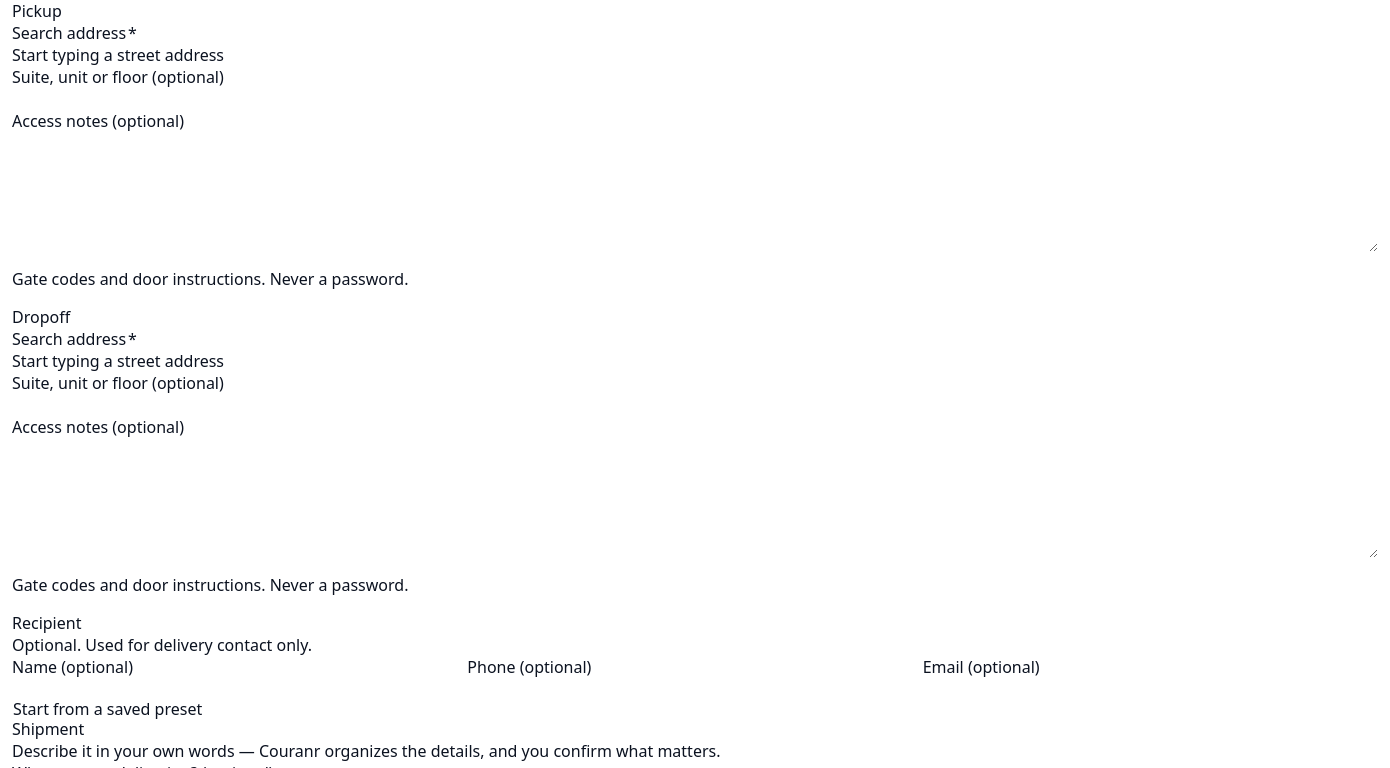
preset application in New Delivery › resolves the chosen preset server-side before filling anything
Click the button with test id "preset-start-open" at (108, 709), box [12, 700, 203, 718]
(page scrolled)
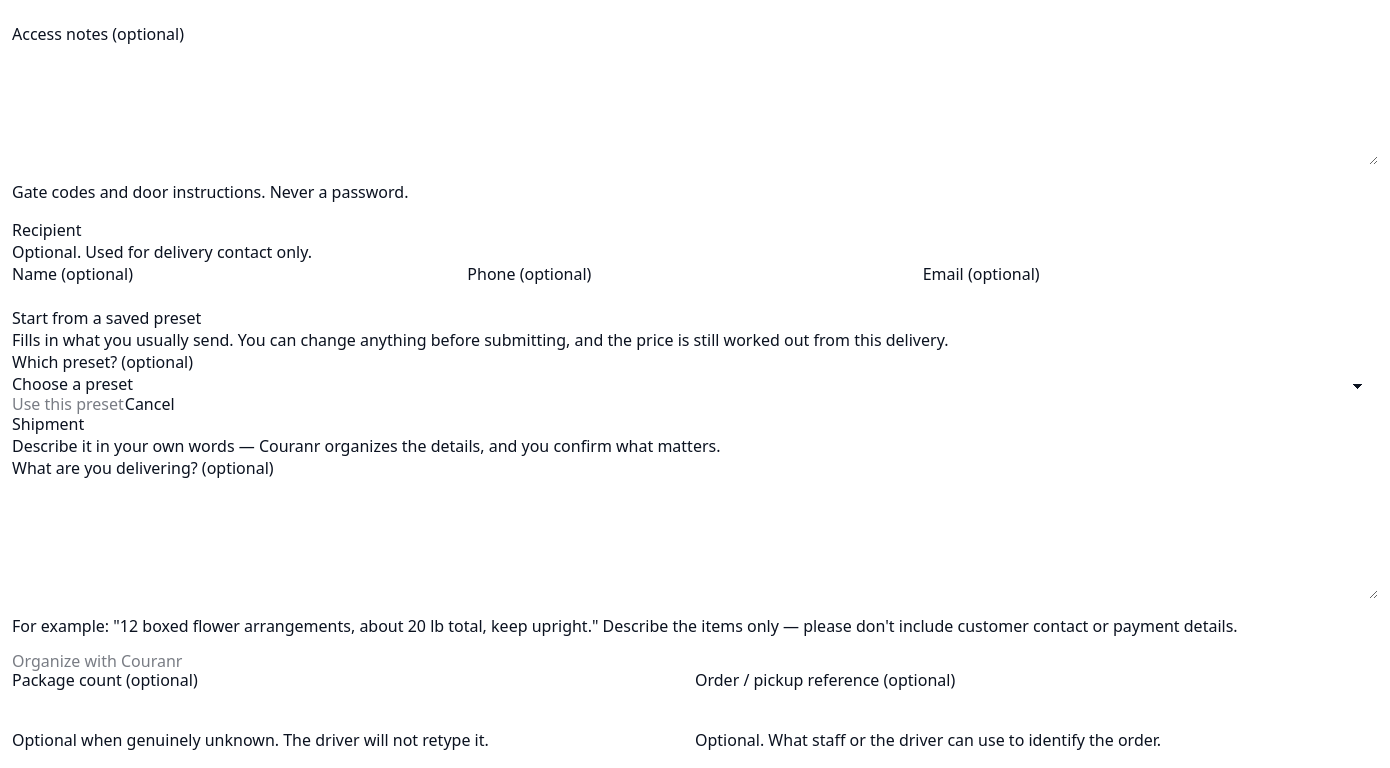
expect the dropdown with test id "preset-start-select" is shown: met
Select "Weekly florist run" in the dropdown with test id "preset-start-select" at (695, 384), box [12, 373, 1378, 395]
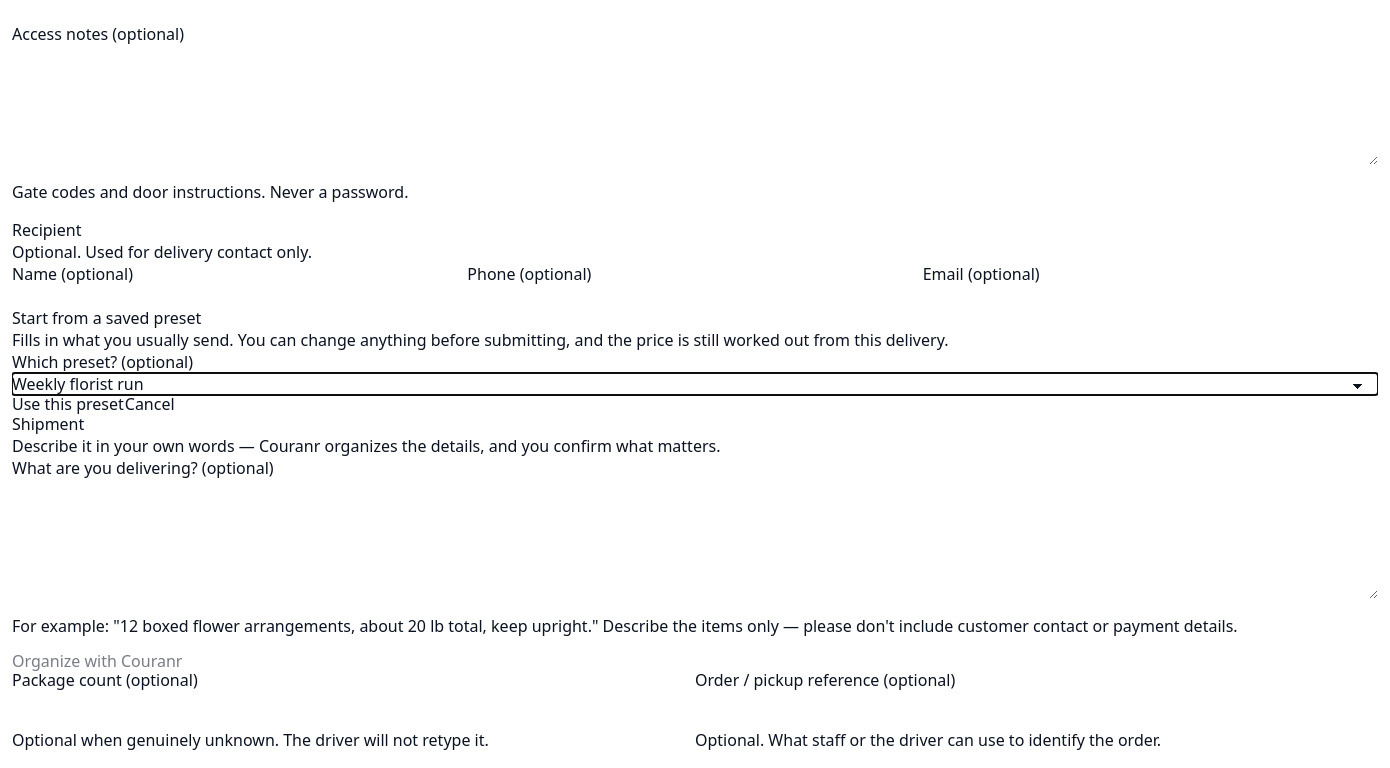
Click the button with test id "preset-start-apply" at (68, 404), box [12, 396, 124, 412]
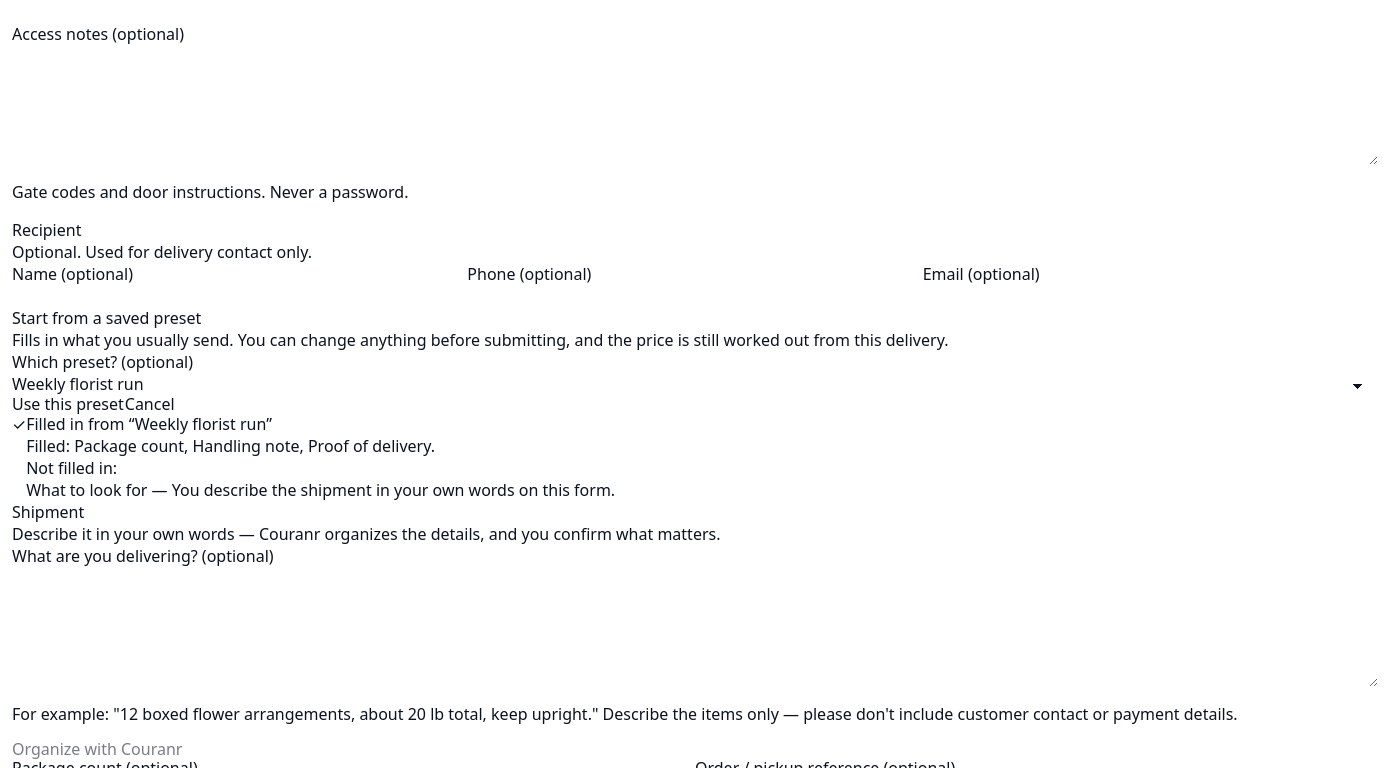
expect the text with test id "preset-start-filled" shows "Package count": met, box [74, 435, 431, 457]
